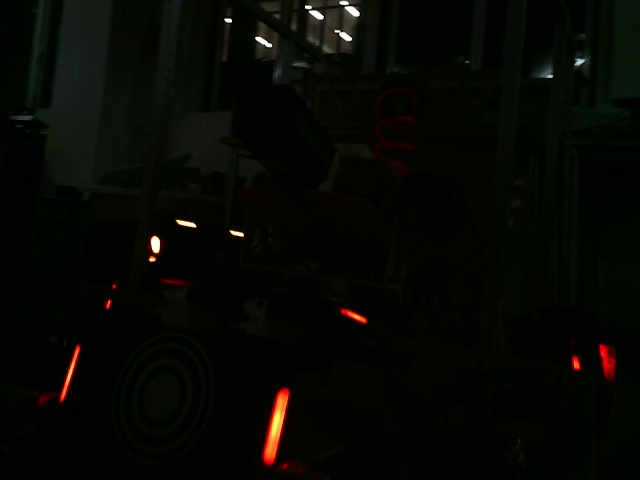lamp: (258, 385, 291, 467), (54, 344, 83, 405)
